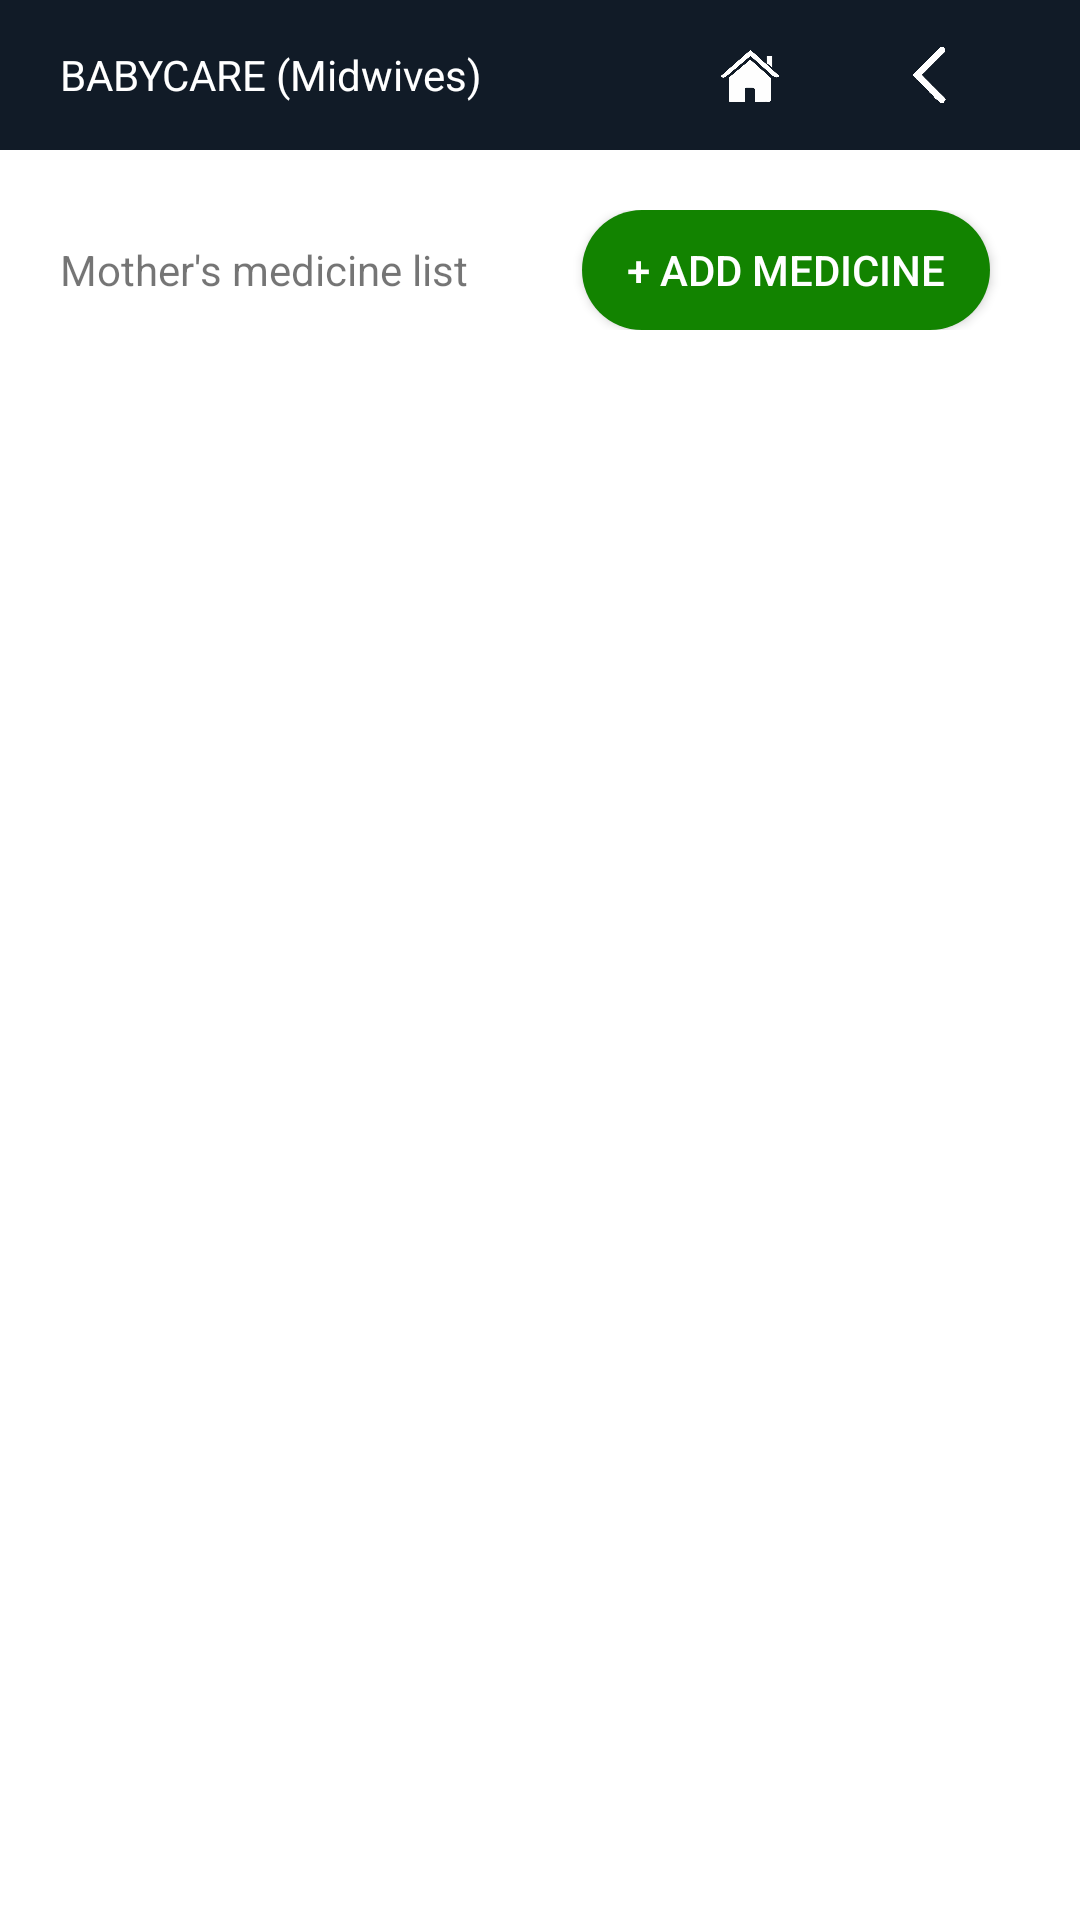

Icons on this 1080px x 1920px Android screen, each with its box as (x1, y1, x2, y2):
back: (913, 47, 946, 103)
home: (721, 50, 779, 102)
